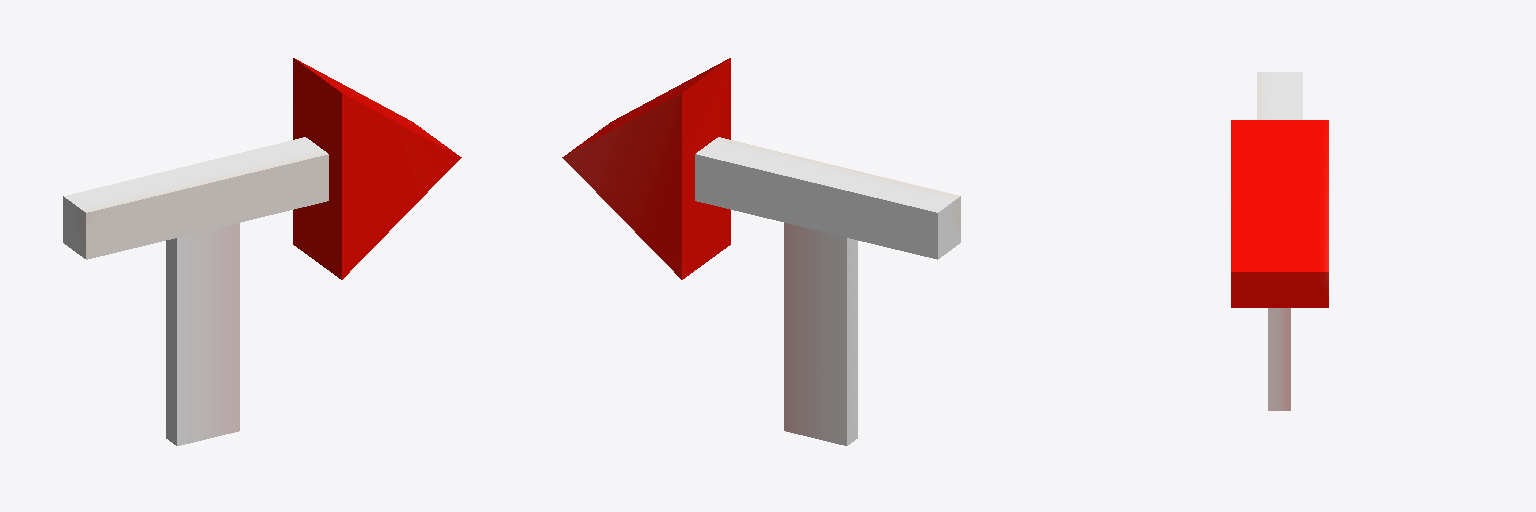
3 views of the same model, side by side, from view 1: azimuth 30°, elevation 25°; view 2: azimuth 150°, elevation 25°; view 3: azimuth 270°, elevation 25° (orthographic).
Visible parts, largest first — view 1: 立方体.001; view 2: 立方体.001; view 3: 立方体.001.
Boxes of the visible parts, <box> form: 立方体.001: <box>63,58,461,445</box>; 立方体.001: <box>562,58,960,445</box>; 立方体.001: <box>1231,72,1328,410</box>.
Size of the model in its own units: 2.03 by 1.77 by 0.4715.
Materials: 1 (1 with a texture image).